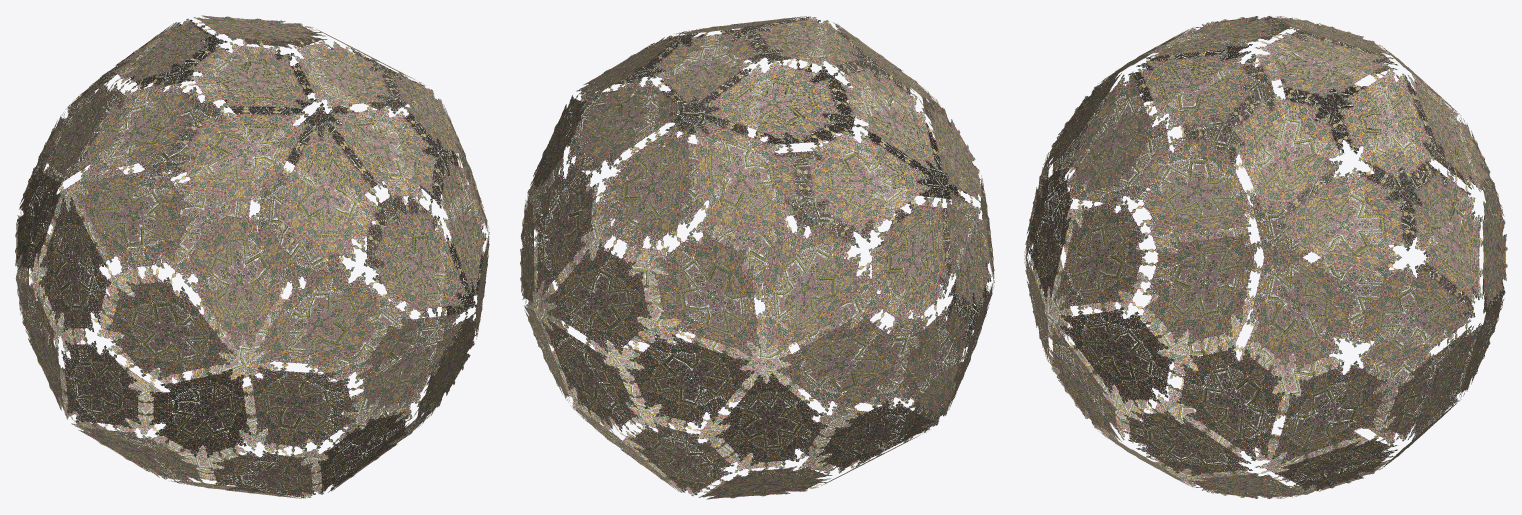
The model's file is PentagonalHexecontahedron2.obj.
3 renders of one model, left to right at view 1: azimuth 30°, elevation 25°; view 2: azimuth 150°, elevation 25°; view 3: azimuth 270°, elevation 25°, orthographic.
Size of the model in its own units: 4.19 by 4.19 by 4.19.
Materials: 1 (1 with a texture image).
